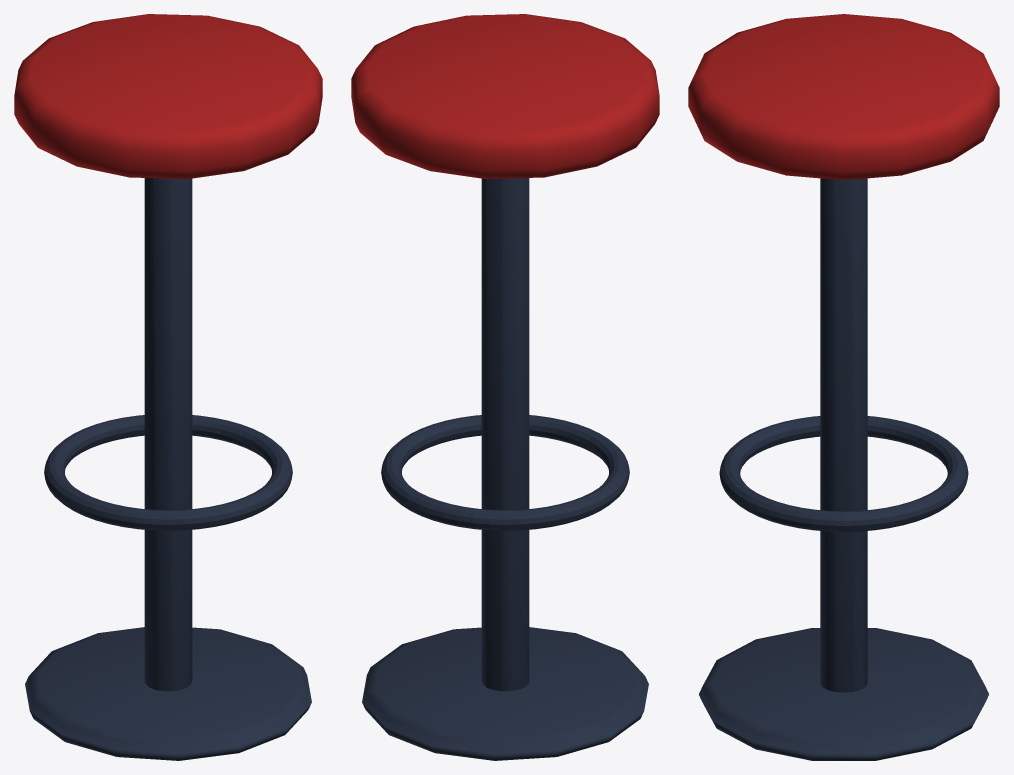
The model's file is f_stool.glb.
The picture shows the model from 3 angles, left to right: view 1: azimuth 30°, elevation 25°; view 2: azimuth 150°, elevation 25°; view 3: azimuth 270°, elevation 25°; orthographic projection.
Parts seen in each view (by area): view 1: f_stool; view 2: f_stool; view 3: f_stool.
Boxes of the visible parts, <box> form: f_stool: <box>14,14,322,760</box>; f_stool: <box>351,14,659,760</box>; f_stool: <box>688,14,999,760</box>.
Bounding box in the file's own units: 0.6 × 1.35 × 0.6.
